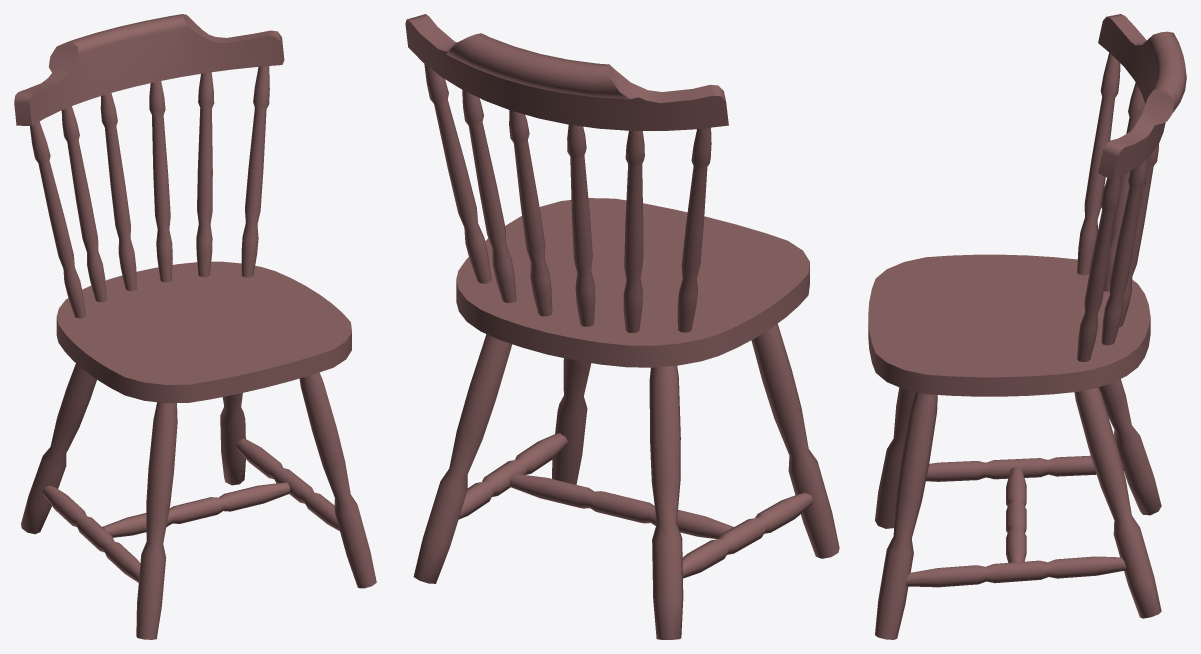
File: rustic_chair.glb
3 views of the same model, side by side, from view 1: azimuth 30°, elevation 25°; view 2: azimuth 150°, elevation 25°; view 3: azimuth 270°, elevation 25° (orthographic). The views are drawn at different scales.
Visible parts, largest first — view 1: chair_lowobjcleanergles; view 2: chair_lowobjcleanergles; view 3: chair_lowobjcleanergles.
Boxes of the visible parts, x1=… form: chair_lowobjcleanergles: x1=14, y1=14, x2=376, y2=639; chair_lowobjcleanergles: x1=405, y1=14, x2=839, y2=639; chair_lowobjcleanergles: x1=868, y1=14, x2=1186, y2=639.
Bounding box in the file's own units: 0.5514 × 0.9624 × 0.533.
